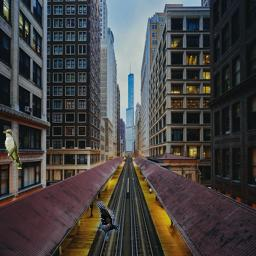Crow: (94, 201, 120, 241)
Cuckoo: (3, 129, 22, 169)
